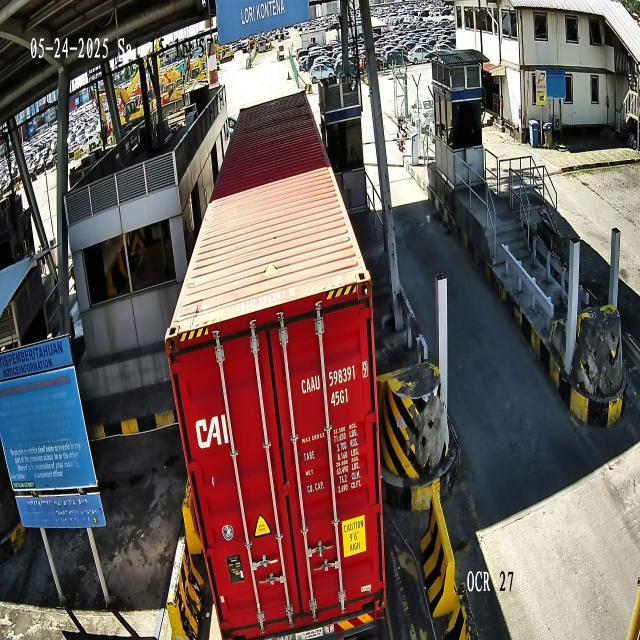ISO: (331, 386, 348, 408)
container_number: (300, 360, 370, 394)
